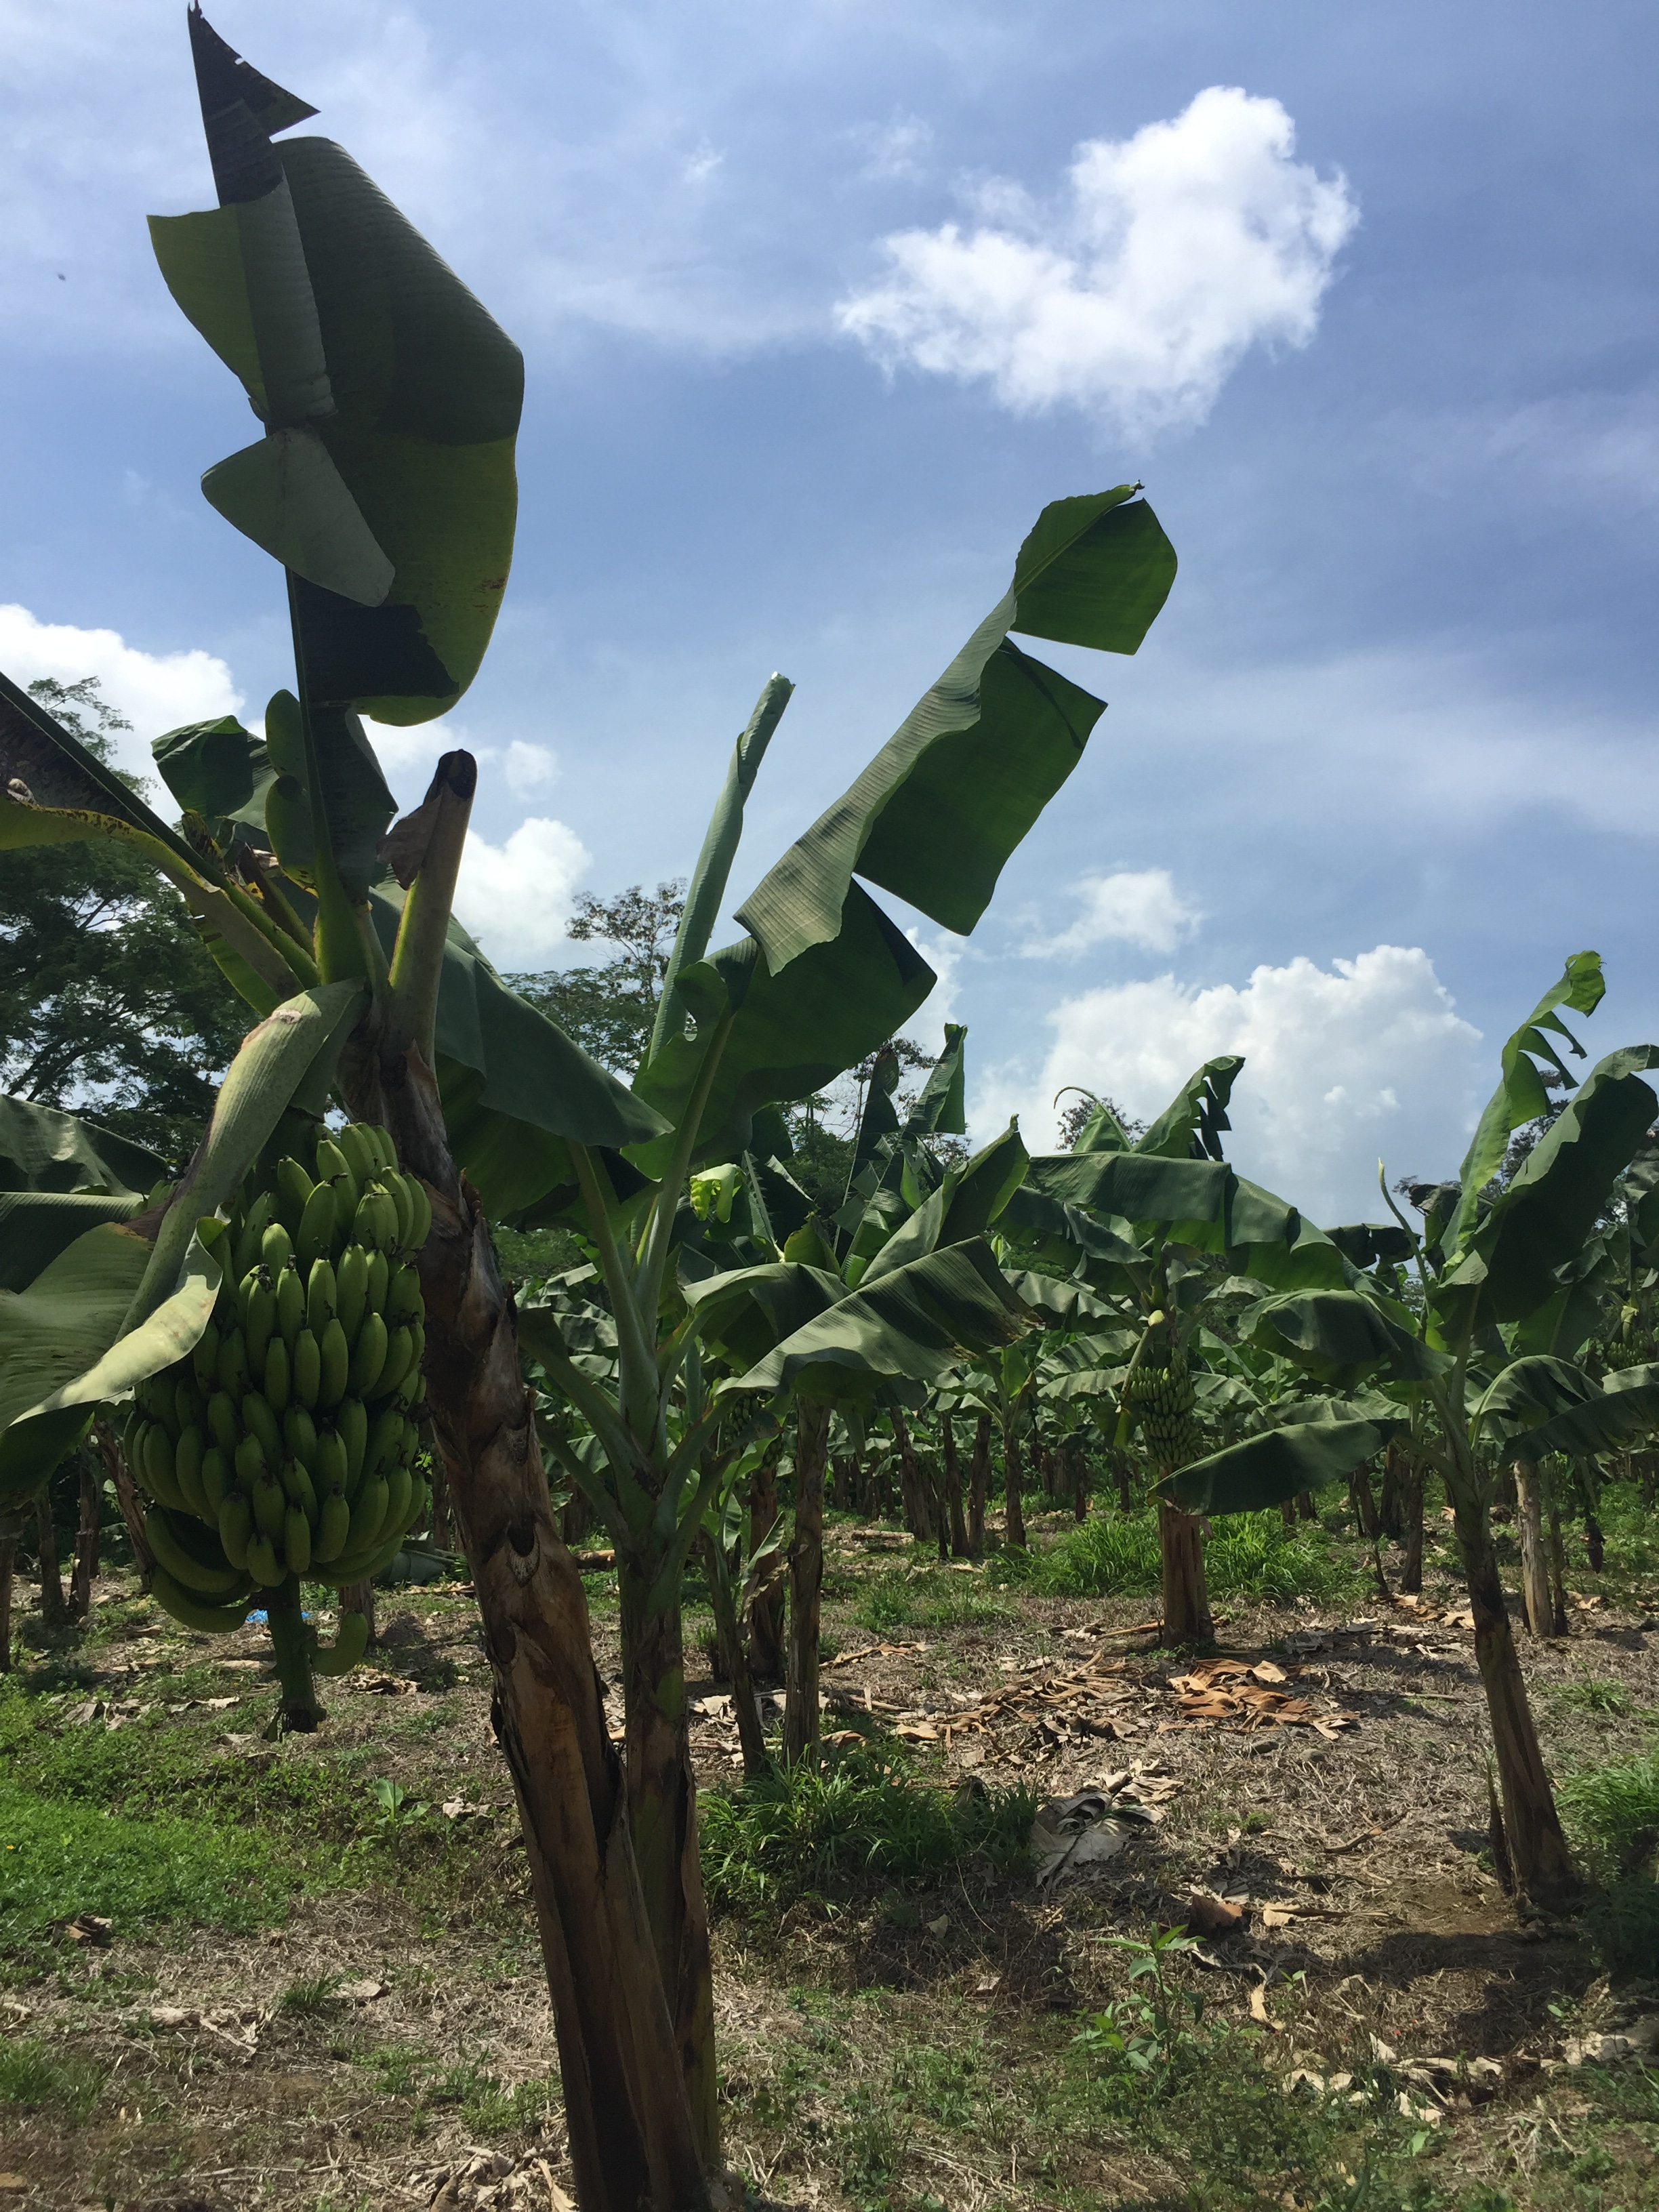candleleafs: (652, 669, 796, 1047)
